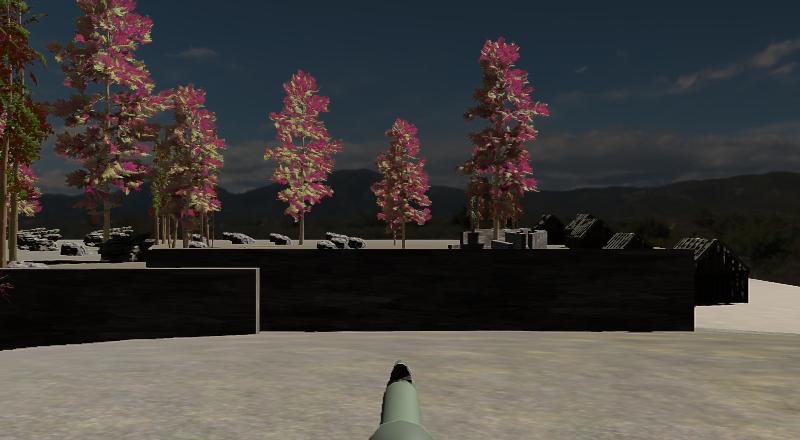House: (693, 236, 750, 305), (533, 211, 566, 247), (602, 230, 647, 253)
